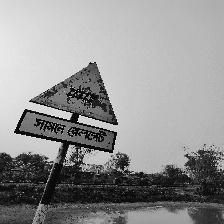Rail-crossing: (15, 63, 119, 153)
